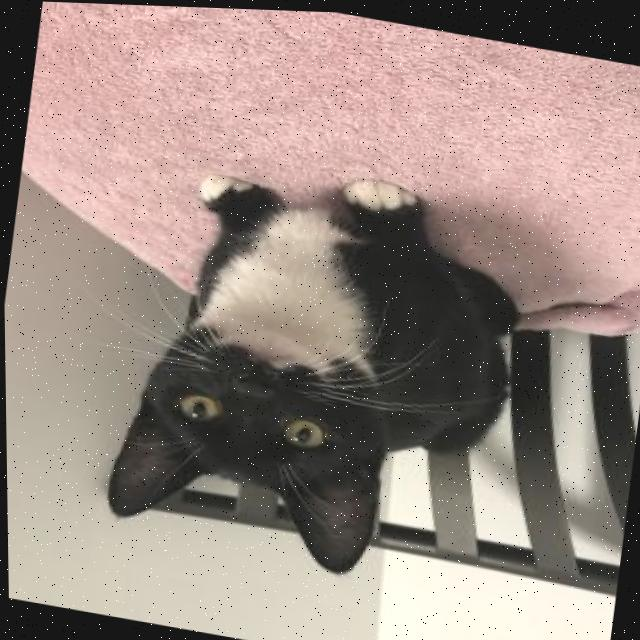Tuxedo: (89, 131, 546, 601)
